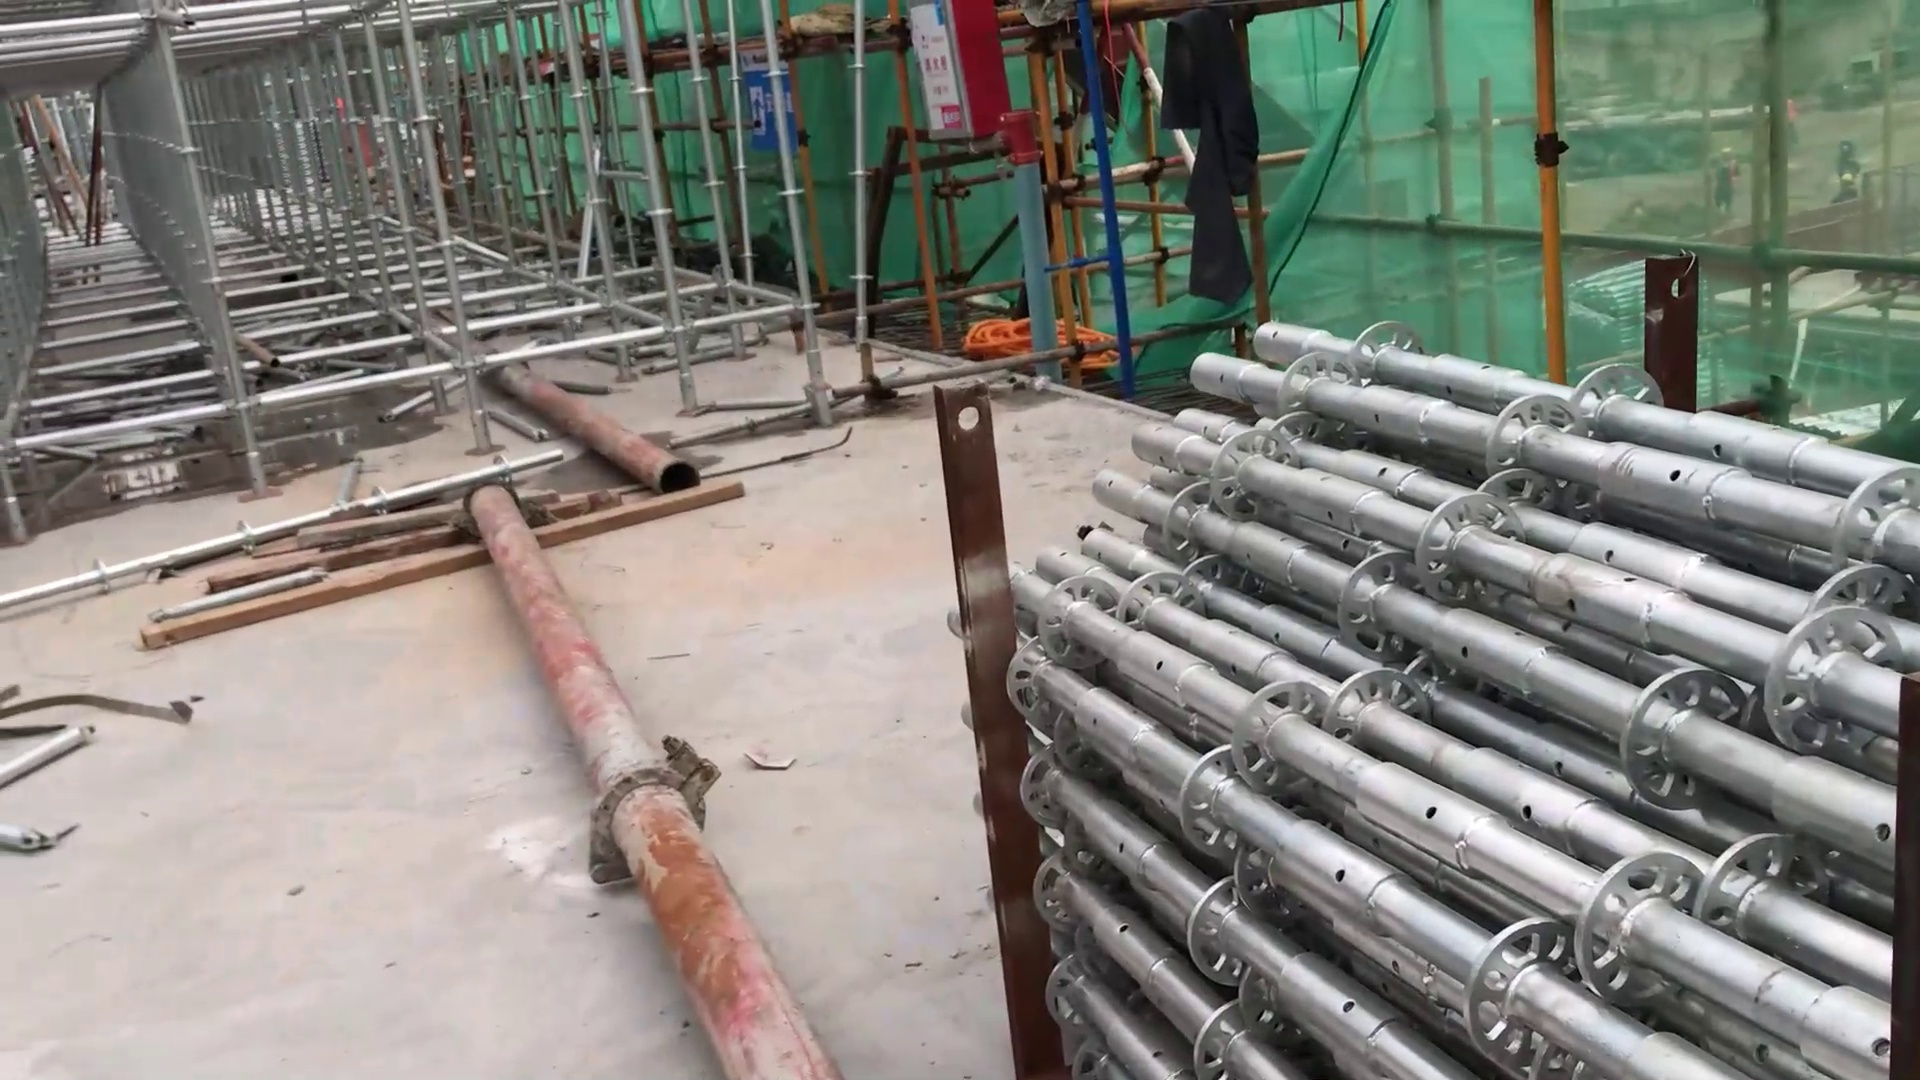scaffold: (996, 301, 1920, 1077)
slogan: (737, 44, 794, 148)
